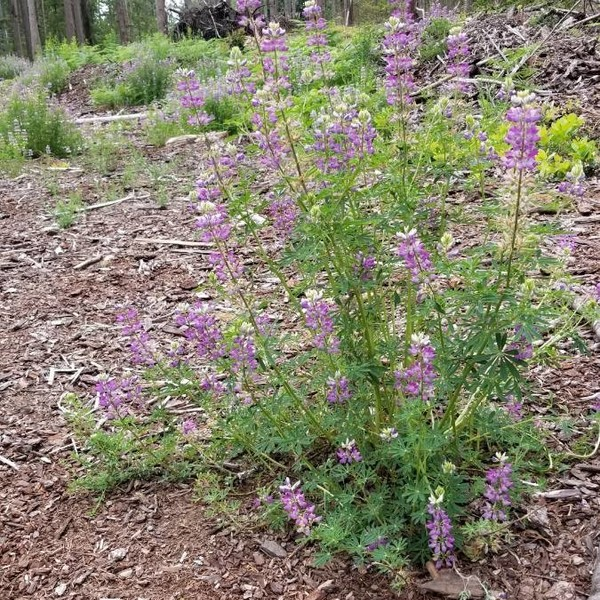obstacle: (205, 73, 484, 536)
